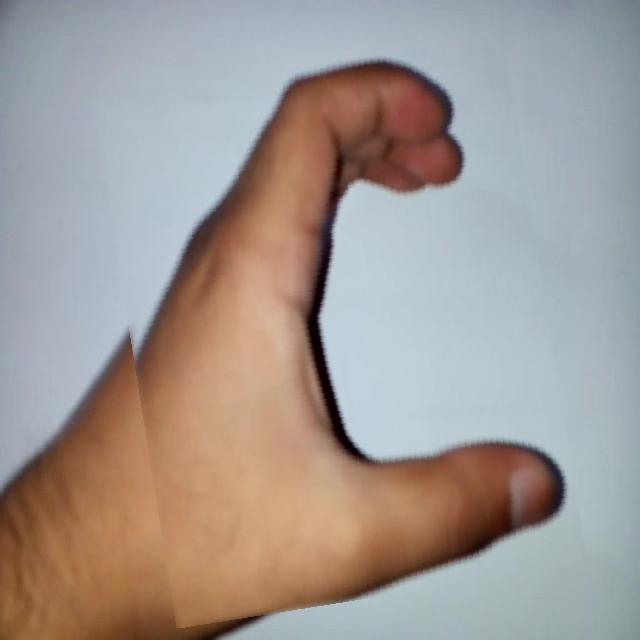C: (113, 47, 568, 614)
